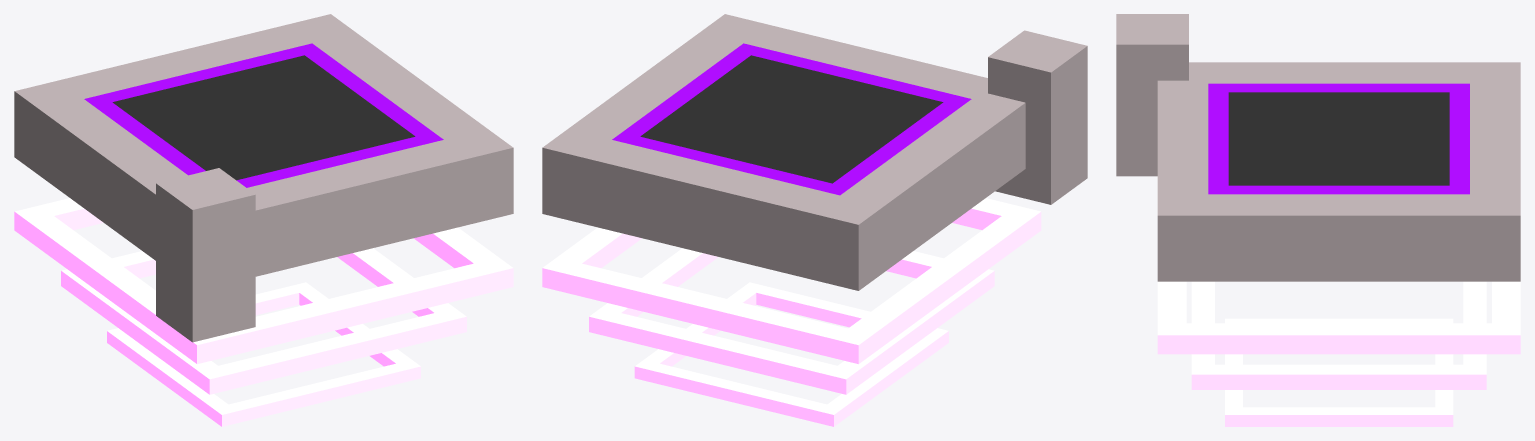
File: rectangle_platform.glb
3 renders of one model, left to right at view 1: azimuth 30°, elevation 25°; view 2: azimuth 150°, elevation 25°; view 3: azimuth 270°, elevation 25°, orthographic.
Parts seen in each view (by area): view 1: Cube.002, Plane, Plane.001, Plane.002, Cube.003; view 2: Cube.002, Plane, Plane.001, Plane.002, Cube.003; view 3: Cube.002, Plane, Plane.001, Cube.003, Plane.002.
Boxes of the visible parts, x1=… form: Cube.002: x1=14, y1=14, x2=513, y2=342; Plane: x1=14, y1=198, x2=513, y2=364; Plane.001: x1=61, y1=248, x2=466, y2=394; Plane.002: x1=107, y1=282, x2=420, y2=426; Cube.003: x1=84, y1=43, x2=443, y2=187; Cube.002: x1=542, y1=14, x2=1087, y2=290; Plane: x1=542, y1=198, x2=1041, y2=364; Plane.001: x1=589, y1=248, x2=994, y2=394; Plane.002: x1=634, y1=282, x2=948, y2=426; Cube.003: x1=612, y1=43, x2=971, y2=195; Cube.002: x1=1116, y1=14, x2=1520, y2=281; Plane: x1=1157, y1=281, x2=1520, y2=354; Plane.001: x1=1191, y1=281, x2=1486, y2=389; Cube.003: x1=1208, y1=83, x2=1469, y2=194; Plane.002: x1=1225, y1=318, x2=1453, y2=426.
Bounding box in the file's own units: 21.61 × 16.76 × 22.28.
